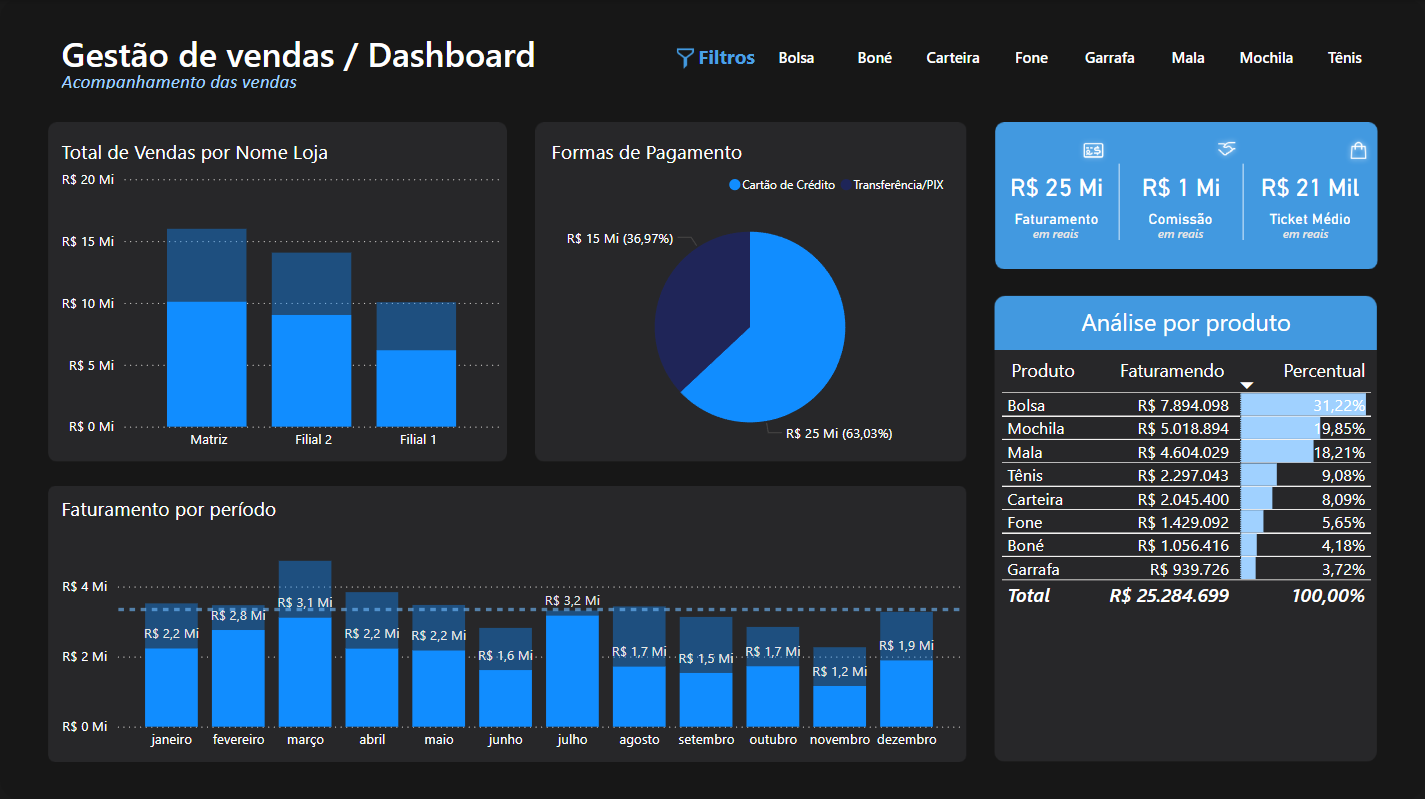

What the dashboard file says about the page in this screenshot:
{"tool":"powerbi","page":{"name":"Página 1","canvas":[1280,720],"ordinal":0},"visuals":[{"type":"card","fields":{"Values":["Sum(registroVendas.Total de Vendas)"]},"box":[892.4,150.8,112.2,34.1],"z":0},{"type":"card","fields":{"Values":["Avg(registroVendas.Total de Vendas)"]},"box":[1115.9,150.8,120.3,34.1],"z":1000},{"type":"clusteredColumnChart","title":"Faturamento por período","fields":{"Y":["Sum(registroVendas.Total de Vendas)"],"Category":["registroVendas.Data Pedido.Variation.Hierarquia de datas.Mês"]},"box":[50.3,444.4,817,237.9],"z":2000},{"type":"pieChart","title":"Formas de Pagamento","fields":{"Y":["Sum(registroVendas.Total de Vendas)"],"Category":["Vendas.Pagamento"]},"box":[490.2,123.9,366.3,289.1],"z":3000},{"type":"columnChart","title":" Total de Vendas por Nome Loja","fields":{"Category":["Lojas.Nome Loja"],"Y":["Sum(Vendas.Total de Vendas)"]},"box":[50.3,123.9,405.8,289.1],"z":4000},{"type":"tableEx","fields":{"Values":["Vendas.Produto","Sum(Vendas.Total de Vendas)","Divide(Sum(Vendas.Total de Vendas), ScopedEval(Sum(Vendas.Total de Vendas), []))"]},"box":[893.3,316,342.9,255.9],"z":5000},{"type":"slicer","fields":{"Values":["Vendas.Produto"]},"box":[660,36.8,600.6,27.8],"z":6000},{"type":"textbox","title":"Gestão de vendas / Dashboard","box":[50,27,511.7,49.4],"z":7000},{"type":"textbox","title":"Acompanhamento das vendas","box":[50.3,62,238.8,18],"z":8000},{"type":"card","fields":{"Values":["Vendas.Comissão"]},"box":[1004.6,150.8,111.3,34.1],"z":9000},{"type":"textbox","title":"Faturamento","box":[892.4,189.4,112.2,18.9],"z":10000},{"type":"textbox","title":"Comissão","box":[1003.7,189.4,112.2,18.9],"z":11000},{"type":"textbox","title":"Ticket Médio","box":[1115.9,189.4,120.3,18.9],"z":12000},{"type":"textbox","title":"em reais","box":[891.5,202,112.2,12.6],"z":13000},{"type":"textbox","title":"em reais","box":[1003.7,202,112.2,12.6],"z":14000},{"type":"textbox","title":"em reais","box":[1115.9,202,112.2,12.6],"z":15000},{"type":"textbox","title":"Filtros","box":[622,38.6,61.9,25.1],"z":16000},{"type":"textbox","title":"Análise por produto","box":[893.3,274,342.9,35],"z":17000}]}

Visuals, with their boxes in screenshot pixels (x1, y1, x2, y2), scaled from the page's 1280x720 canvas onto the 1425x799 screenshot:
card - Sum(registroVendas.Total de Vendas): (left=993, top=167, right=1118, bottom=205)
card - Avg(registroVendas.Total de Vendas): (left=1242, top=167, right=1376, bottom=205)
"Faturamento por período" clusteredColumnChart: (left=56, top=493, right=966, bottom=757)
"Formas de Pagamento" pieChart: (left=546, top=137, right=954, bottom=458)
" Total de Vendas por Nome Loja" columnChart: (left=56, top=137, right=508, bottom=458)
tableEx - Vendas.Produto x Sum(Vendas.Total de Vendas): (left=994, top=351, right=1376, bottom=635)
slicer - Vendas.Produto: (left=735, top=41, right=1403, bottom=72)
"Gestão de vendas / Dashboard" textbox: (left=56, top=30, right=625, bottom=85)
"Acompanhamento das vendas" textbox: (left=56, top=69, right=322, bottom=89)
card - Vendas.Comissão: (left=1118, top=167, right=1242, bottom=205)
"Faturamento" textbox: (left=993, top=210, right=1118, bottom=231)
"Comissão" textbox: (left=1117, top=210, right=1242, bottom=231)
"Ticket Médio" textbox: (left=1242, top=210, right=1376, bottom=231)
"em reais" textbox: (left=992, top=224, right=1117, bottom=238)
"em reais" textbox: (left=1117, top=224, right=1242, bottom=238)
"em reais" textbox: (left=1242, top=224, right=1367, bottom=238)
"Filtros" textbox: (left=692, top=43, right=761, bottom=71)
"Análise por produto" textbox: (left=994, top=304, right=1376, bottom=343)
